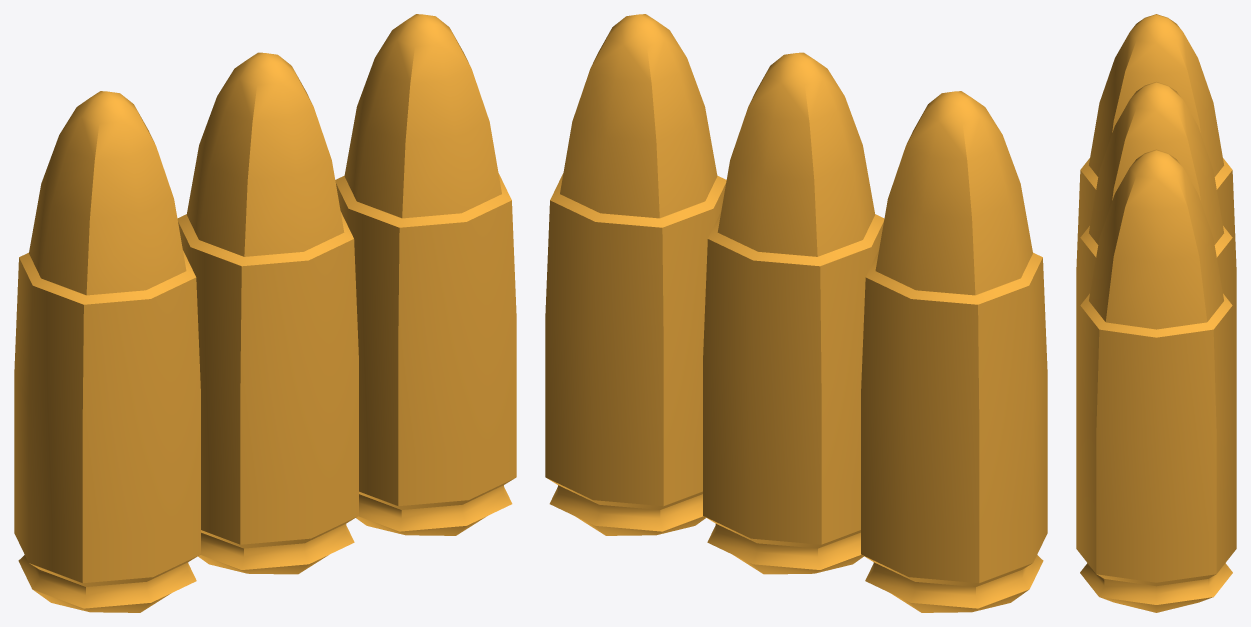
Rendered from Pickup_Bullets-transformed.glb.
3 views of the same model, side by side, from view 1: azimuth 30°, elevation 25°; view 2: azimuth 150°, elevation 25°; view 3: azimuth 270°, elevation 25° (orthographic). The views are drawn at different scales.
Parts seen in each view (by area): view 1: Pickup_Bullets; view 2: Pickup_Bullets; view 3: Pickup_Bullets.
Part boxes in pixels (bbox=[...]): Pickup_Bullets: bbox=[14, 14, 516, 612]; Pickup_Bullets: bbox=[545, 14, 1047, 612]; Pickup_Bullets: bbox=[1076, 14, 1236, 612].
Size of the model in its own units: 0.8284 by 0.8421 by 0.2761.
Materials: 1 (1 with a texture image).
